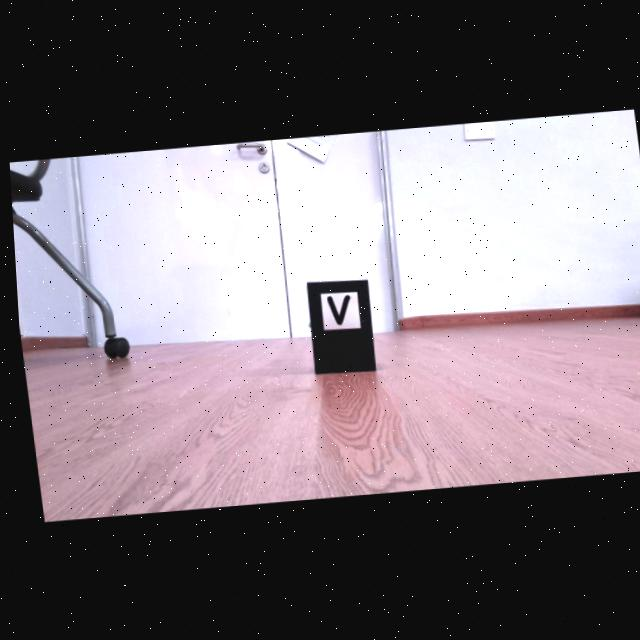V: (324, 296, 347, 325)
